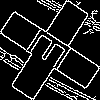E: (25, 25, 81, 78)
